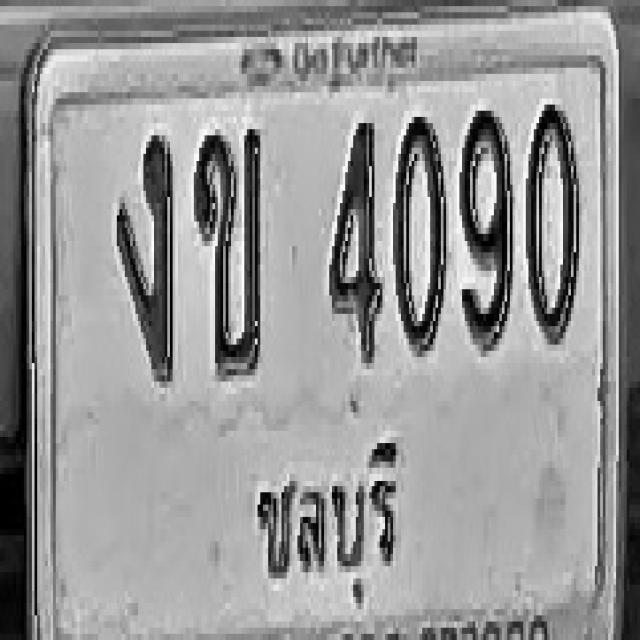0: (526, 98, 579, 344), (393, 111, 446, 351)
11KhorKhai: (194, 123, 260, 375)
16NgorNgu: (115, 129, 174, 382)
4: (328, 117, 381, 363)
9: (460, 108, 512, 348)
Chonburi: (249, 427, 400, 615)
